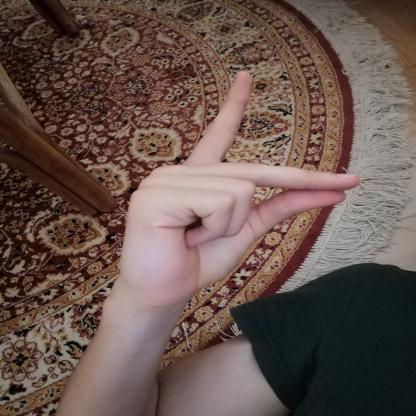TAA: (100, 62, 374, 319)
